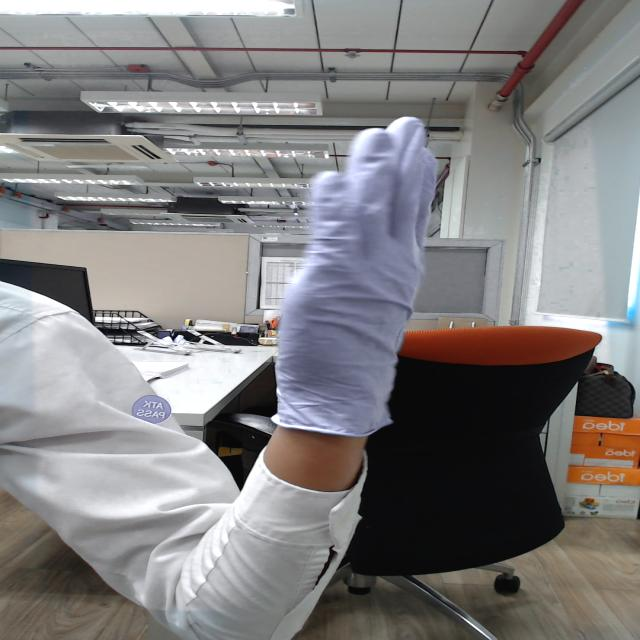glove: (223, 105, 479, 379)
